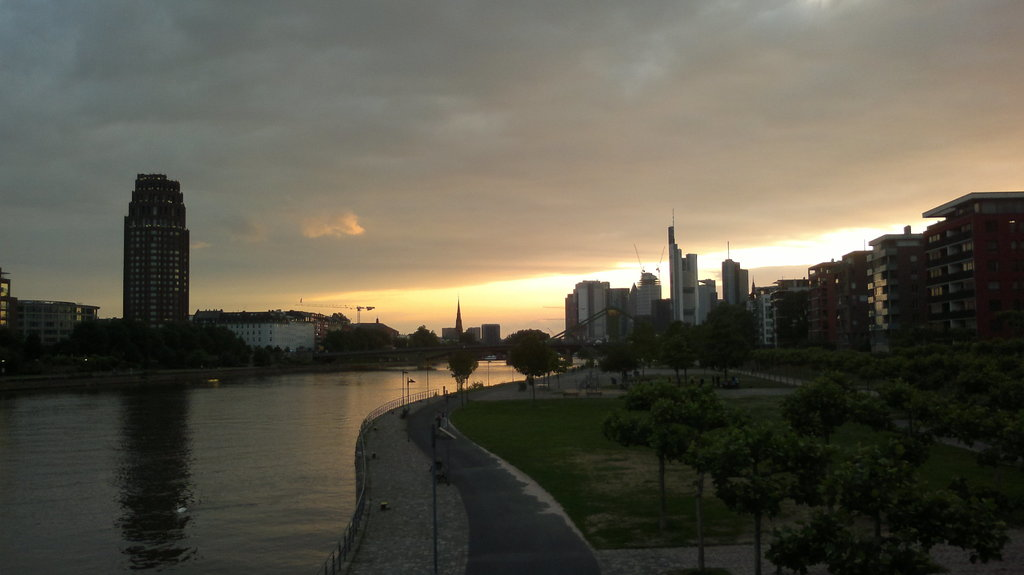Tree: (605, 339, 1023, 574), (598, 300, 759, 387), (65, 318, 249, 366), (501, 323, 562, 388), (771, 286, 808, 346), (446, 347, 478, 405), (318, 323, 384, 351), (394, 321, 437, 350), (253, 345, 291, 368)
